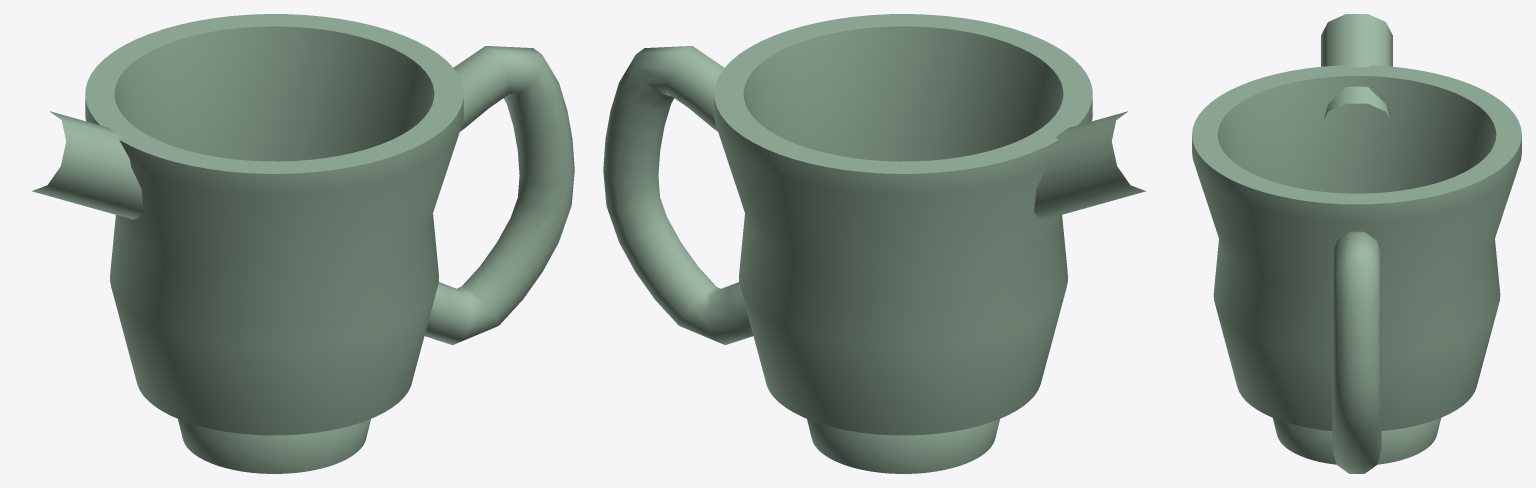
File: ceramics-pottery-studio-pouring-pitcher-ce7ea3ab__29515.glb
3 views of the same model, side by side, from view 1: azimuth 30°, elevation 25°; view 2: azimuth 150°, elevation 25°; view 3: azimuth 270°, elevation 25° (orthographic). The views are drawn at different scales.
Visible parts, largest first — view 1: pouring-pitcher; view 2: pouring-pitcher; view 3: pouring-pitcher.
Part boxes in pixels (x1,y1,x2,y2): pouring-pitcher: [32, 14, 574, 473]; pouring-pitcher: [603, 14, 1145, 473]; pouring-pitcher: [1192, 14, 1521, 473].
Bounding box in the file's own units: 0.5355 × 0.3498 × 0.322.
